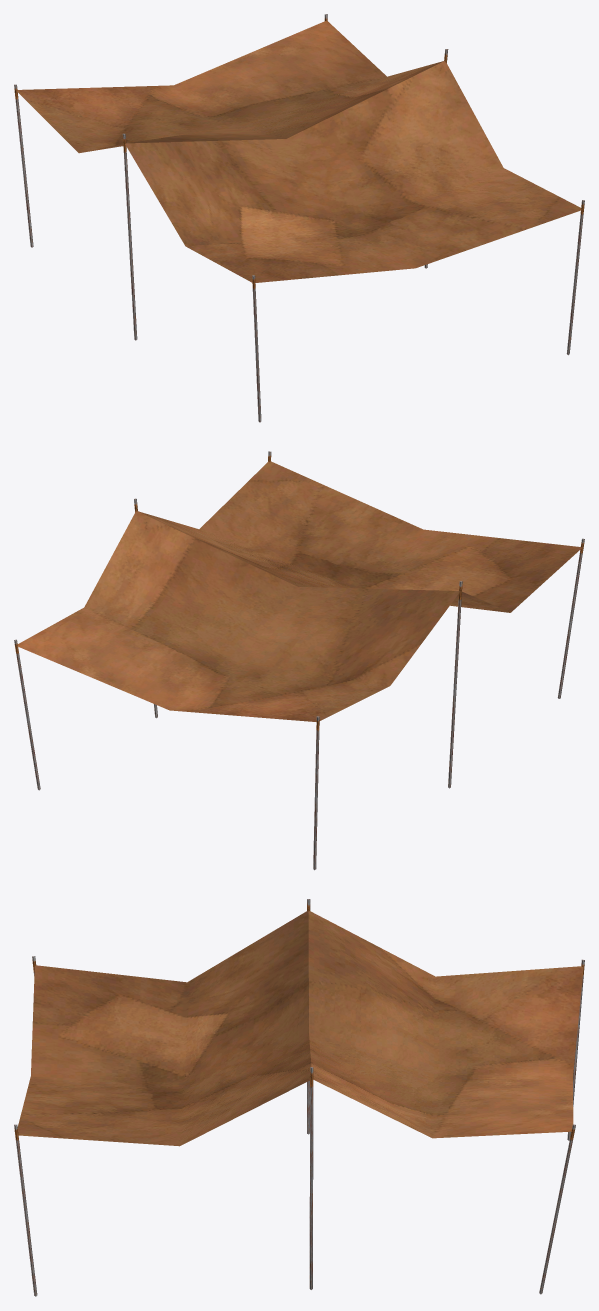
The model's file is thm_tato_jawa_tent_med_l2.fbx.
3 views of the same model, one above another, from view 1: azimuth 30°, elevation 25°; view 2: azimuth 150°, elevation 25°; view 3: azimuth 270°, elevation 25° (orthographic). The views are drawn at different scales.
Visible parts, largest first — view 1: mesh_node; view 2: mesh_node; view 3: mesh_node.
Boxes of the visible parts, x1,y1,x2,y2 form: mesh_node: (14,14,584,422); mesh_node: (14,451,584,870); mesh_node: (14,899,584,1296).
Size of the model in its own units: 6.53 by 4.07 by 9.03.
Materials: 1 (1 with a texture image).
